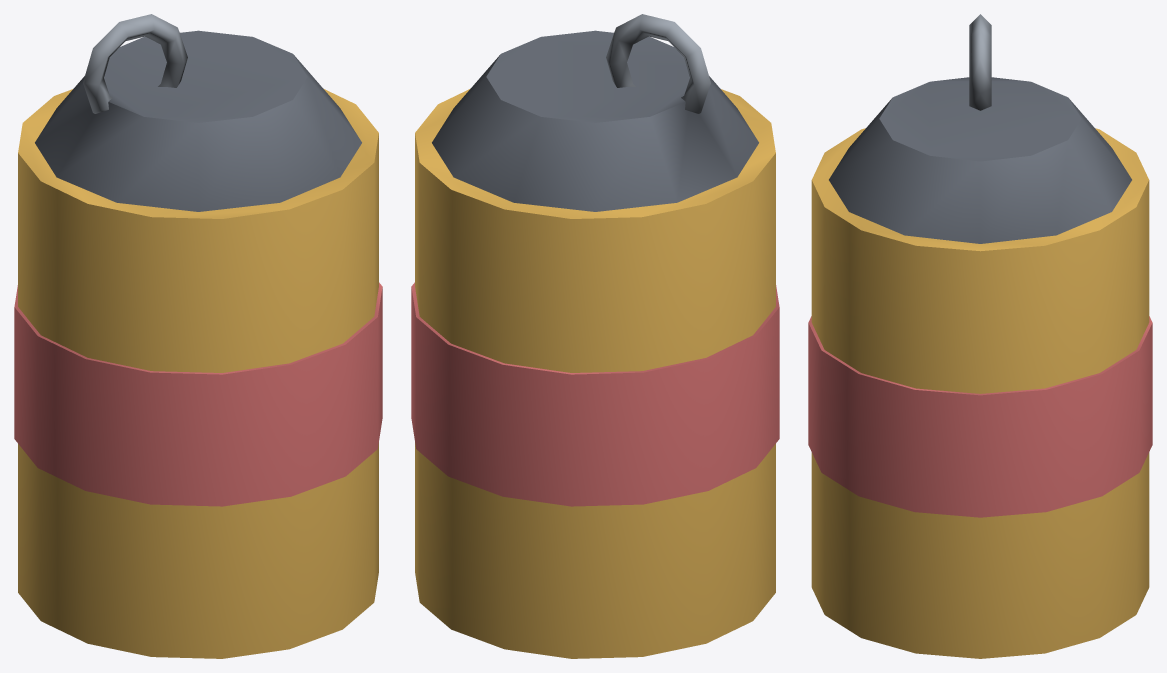
File: Napalm.fbx
3 renders of one model, left to right at view 1: azimuth 30°, elevation 25°; view 2: azimuth 150°, elevation 25°; view 3: azimuth 270°, elevation 25°, orthographic. The views are drawn at different scales.
Visible parts, largest first — view 1: napalm; view 2: napalm; view 3: napalm.
Part boxes in pixels (x1,y1,x2,y2): napalm: (14, 14, 382, 658); napalm: (411, 14, 779, 658); napalm: (808, 14, 1152, 658).
Size of the model in its own units: 0.306 by 0.5276 by 0.306.
